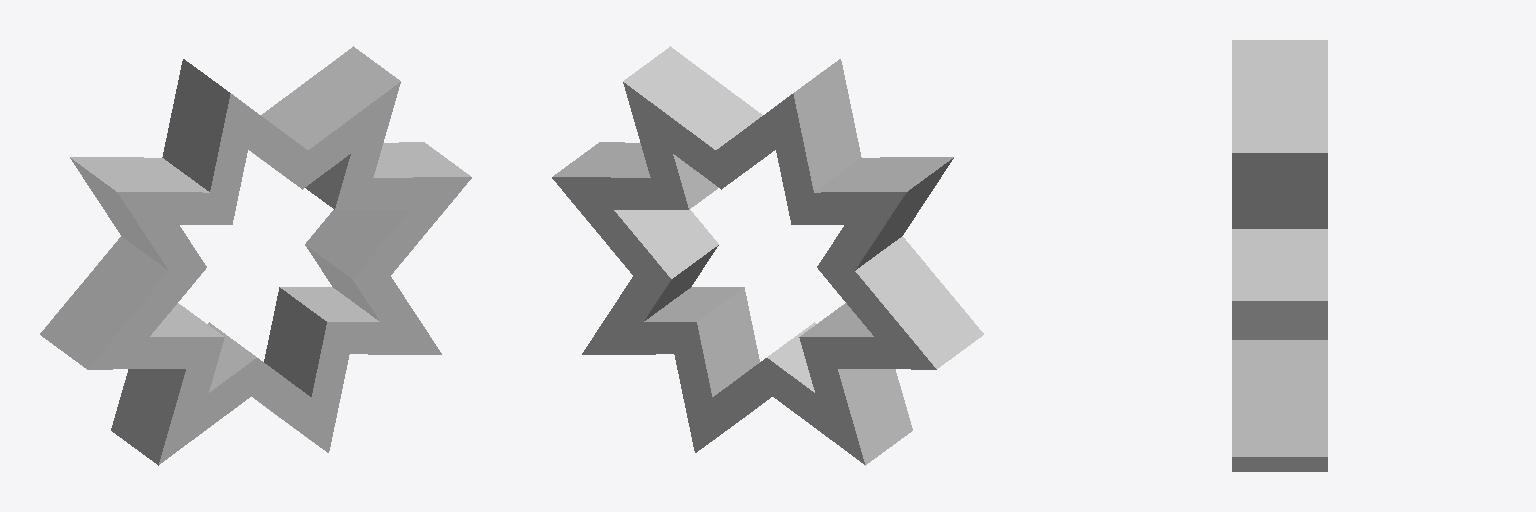
Rendered from star holo.obj.
3 views of the same model, side by side, from view 1: azimuth 30°, elevation 25°; view 2: azimuth 150°, elevation 25°; view 3: azimuth 270°, elevation 25° (orthographic).
Parts seen in each view (by area): view 1: Cube.003_Cube.004; view 2: Cube.003_Cube.004; view 3: Cube.003_Cube.004.
Boxes of the visible parts, box(x1,y1,x2,y2) form: Cube.003_Cube.004: box(40, 46, 471, 465); Cube.003_Cube.004: box(552, 46, 983, 465); Cube.003_Cube.004: box(1232, 40, 1327, 471).
Bounding box in the file's own units: 3.48 × 3.32 × 0.746.